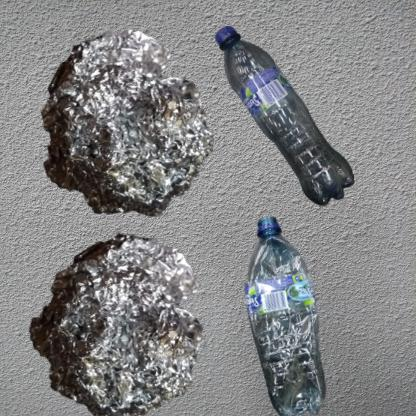aluminio: (10, 10, 245, 259), (10, 213, 234, 416)
botella: (213, 10, 367, 233), (213, 213, 382, 416)
